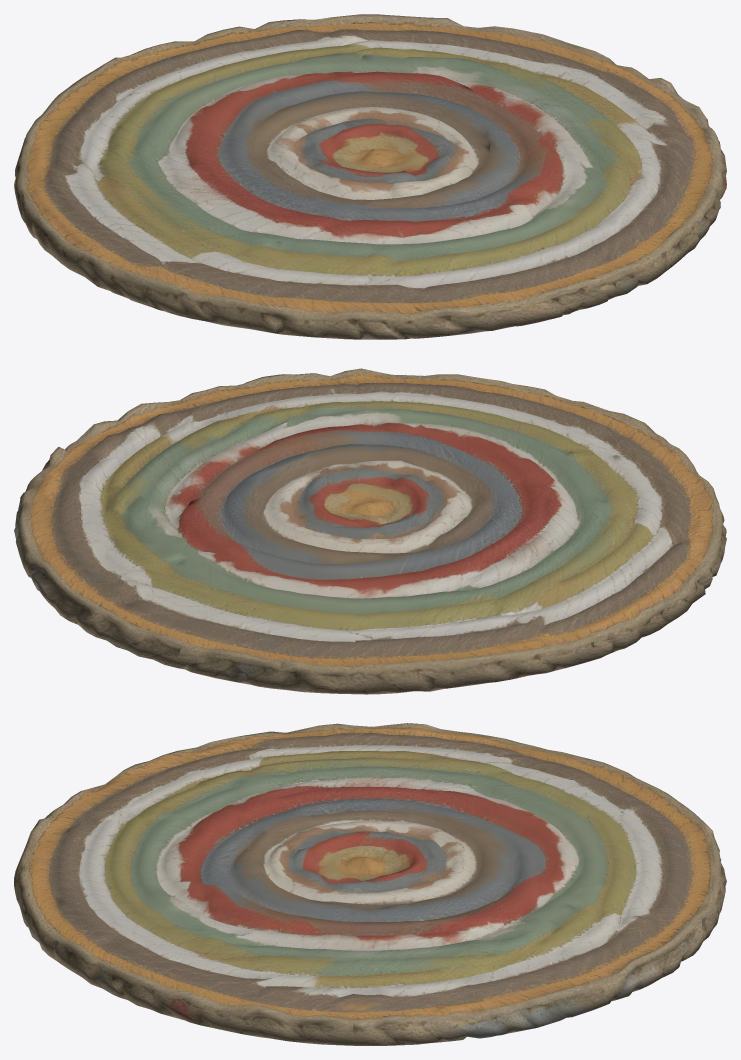
Rendered from rug.glb.
3 views of the same model, one above another, from view 1: azimuth 30°, elevation 25°; view 2: azimuth 150°, elevation 25°; view 3: azimuth 270°, elevation 25° (orthographic).
Parts seen in each view (by area): view 1: tripo_node_bcec9f40-a9e1-4bb1-a7fa-e7ab7; view 2: tripo_node_bcec9f40-a9e1-4bb1-a7fa-e7ab7; view 3: tripo_node_bcec9f40-a9e1-4bb1-a7fa-e7ab7.
Part boxes in pixels (x1,y1,x2,y2): tripo_node_bcec9f40-a9e1-4bb1-a7fa-e7ab7: (14,14,726,339); tripo_node_bcec9f40-a9e1-4bb1-a7fa-e7ab7: (14,368,726,694); tripo_node_bcec9f40-a9e1-4bb1-a7fa-e7ab7: (14,723,726,1045).
Bounding box in the file's own units: 0.998 × 0.084 × 0.998.
1 material, 1 textured.
